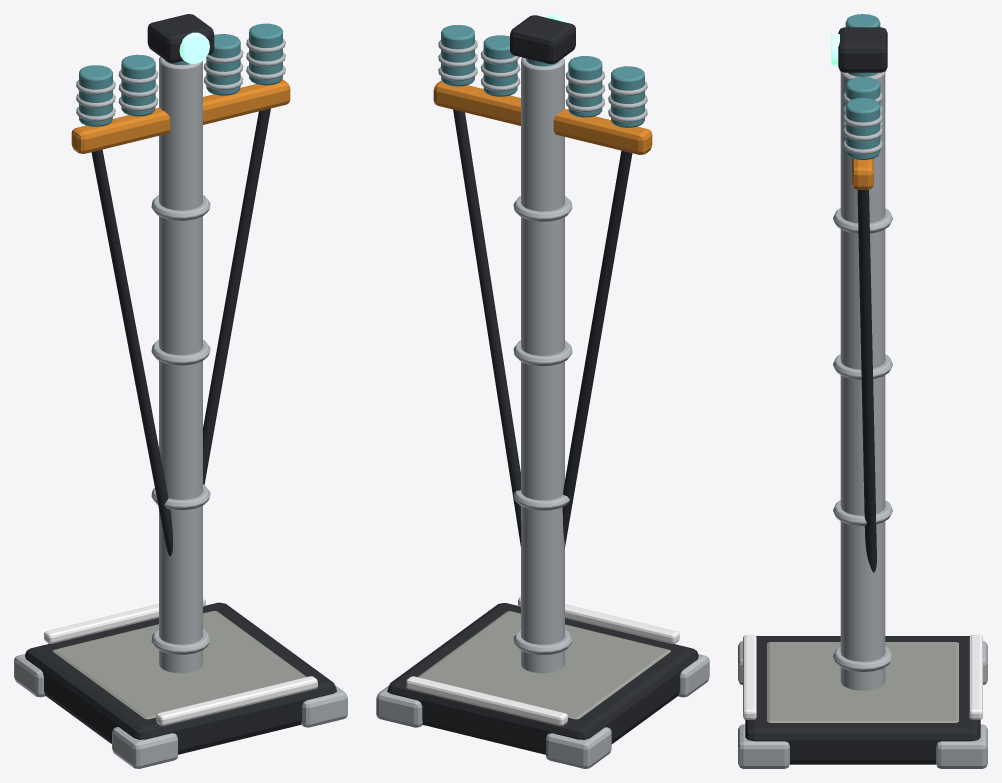
File: power_pole.glb
3 views of the same model, side by side, from view 1: azimuth 30°, elevation 25°; view 2: azimuth 150°, elevation 25°; view 3: azimuth 270°, elevation 25° (orthographic).
Visible parts, largest first — view 1: Main_Body, StatusLight_Mesh; view 2: Main_Body, StatusLight_Mesh; view 3: Main_Body, StatusLight_Mesh.
Boxes of the visible parts, <box> form: Main_Body: <box>14,23,347,768</box>; StatusLight_Mesh: <box>147,14,214,64</box>; Main_Body: <box>376,25,709,768</box>; StatusLight_Mesh: <box>510,14,575,64</box>; Main_Body: <box>738,14,987,768</box>; StatusLight_Mesh: <box>831,27,887,72</box>.
Size of the model in its own units: 2.02 by 6.08 by 2.02.
